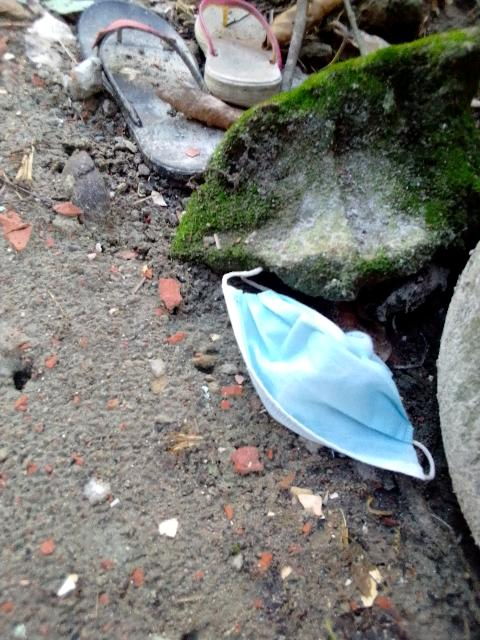mask: (207, 252, 437, 490)
